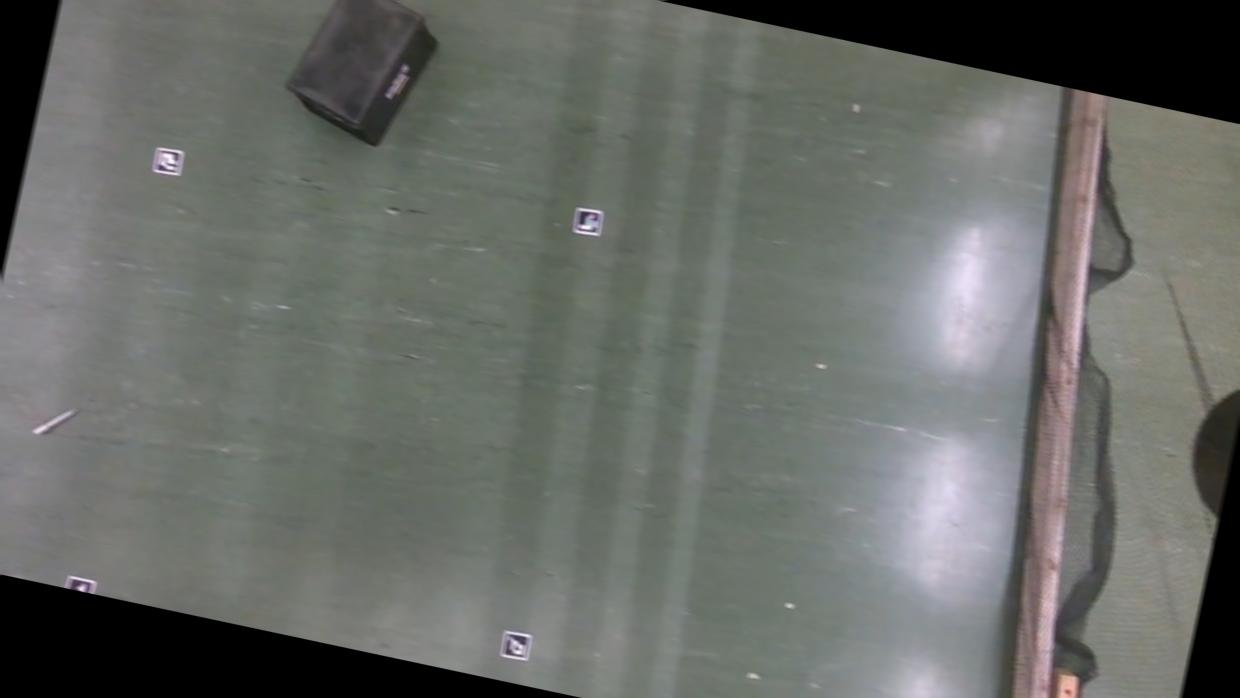probes: (32, 398, 79, 442)
rako: (276, 0, 450, 156)
